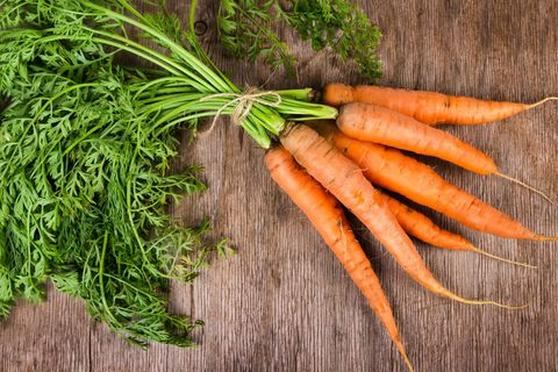carrot: (250, 146, 392, 364), (335, 106, 508, 183), (315, 76, 553, 125)
